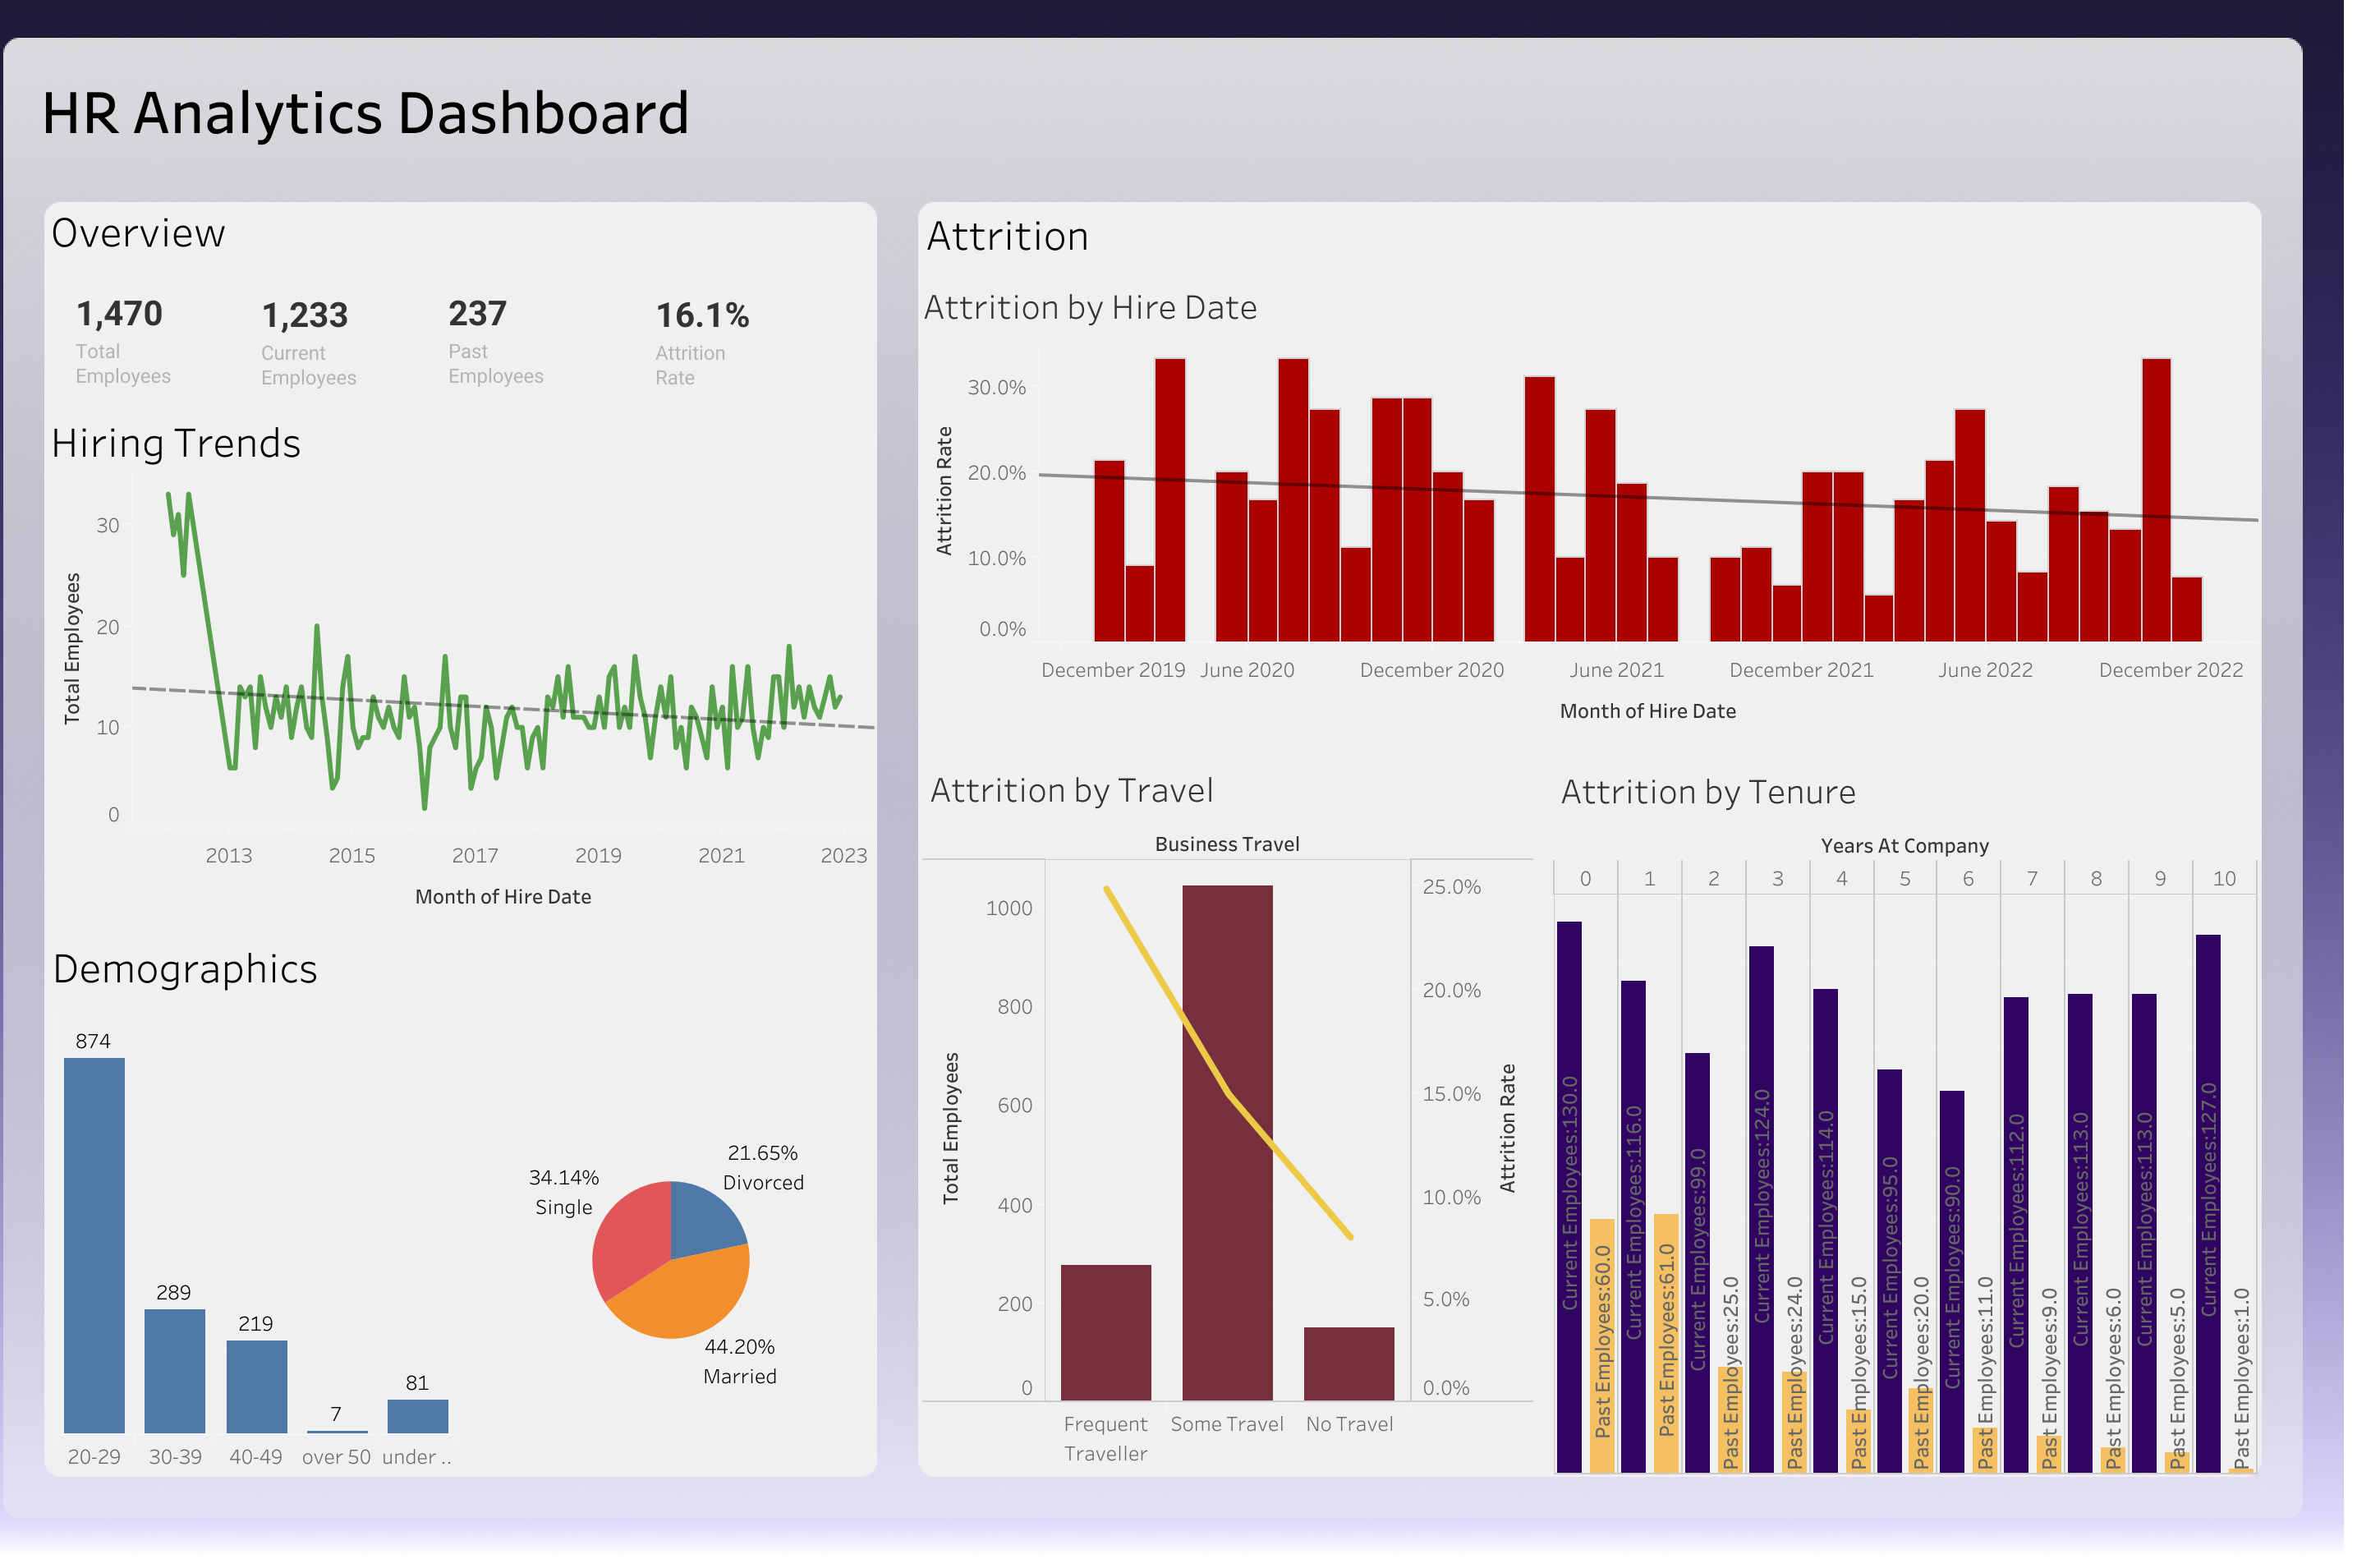

This screenshot's page, from the dashboard's own definition file:
{"tool":"tableau","page":{"name":"HR Dashboard","canvas":[1450,950],"ordinal":0},"visuals":[{"type":"text","box":[22,15,622,103]},{"type":"text","box":[28,106,431,68]},{"type":"text","box":[561,125,106,34]},{"type":"worksheet","title":"KPI - Total Employees","mark":"Text","box":[42,156,483,243]},{"type":"worksheet","title":"KPI - Past Employees","mark":"Text","box":[269,156,483,242]},{"type":"worksheet","title":"KPI - Active Employees","mark":"Text","box":[155,157,483,243]},{"type":"worksheet","title":"KPI - Attrition Rate","mark":"Text","box":[395,157,483,243]},{"type":"worksheet","title":"Attrition by Hire Date","mark":"Bar","rows":["Calculation_4343440367209660420"],"cols":["HireDate"],"box":[558,166,817,282]},{"type":"text","box":[28,239,190,58]},{"type":"worksheet","title":"Hiring Over Time","mark":"Line","rows":["Calculation_4343440367184404483"],"cols":["HireDate"],"box":[27,273,506,288]},{"type":"worksheet","title":"Attrition by Travel","mark":"Bar","rows":["Calculation_4343440367184404483","Calculation_4343440367209660420"],"cols":["BusinessTravel"],"box":[562,460,372,434]},{"type":"worksheet","title":"Attrition by Tenure","mark":"Automatic","cols":["YearsAtCompany"],"box":[946,461,429,437]},{"type":"text","box":[29,571,168,34]},{"type":"worksheet","title":"Age Group","mark":"Automatic","rows":["Calculation_4343440367184404483"],"cols":["Calculation_459648702882357249"],"box":[33,599,246,296]}]}

Visuals, with their boxes in screenshot pixels (x1, y1, x2, y2), scaled from the page's 1450x950 canvas onto the 2380x1559 screenshot:
text: [36, 25, 1057, 194]
text: [46, 174, 753, 286]
text: [921, 205, 1095, 261]
"KPI - Total Employees" worksheet (Text marks): [69, 256, 861, 655]
"KPI - Past Employees" worksheet (Text marks): [442, 256, 1234, 653]
"KPI - Active Employees" worksheet (Text marks): [255, 258, 1047, 656]
"KPI - Attrition Rate" worksheet (Text marks): [648, 258, 1441, 656]
"Attrition by Hire Date" worksheet (Bar marks): [916, 273, 2257, 735]
text: [46, 392, 358, 487]
"Hiring Over Time" worksheet (Line marks): [44, 448, 875, 921]
"Attrition by Travel" worksheet (Bar marks): [922, 755, 1533, 1467]
"Attrition by Tenure" worksheet: [1553, 757, 2257, 1474]
text: [48, 937, 324, 993]
"Age Group" worksheet: [54, 983, 458, 1469]
